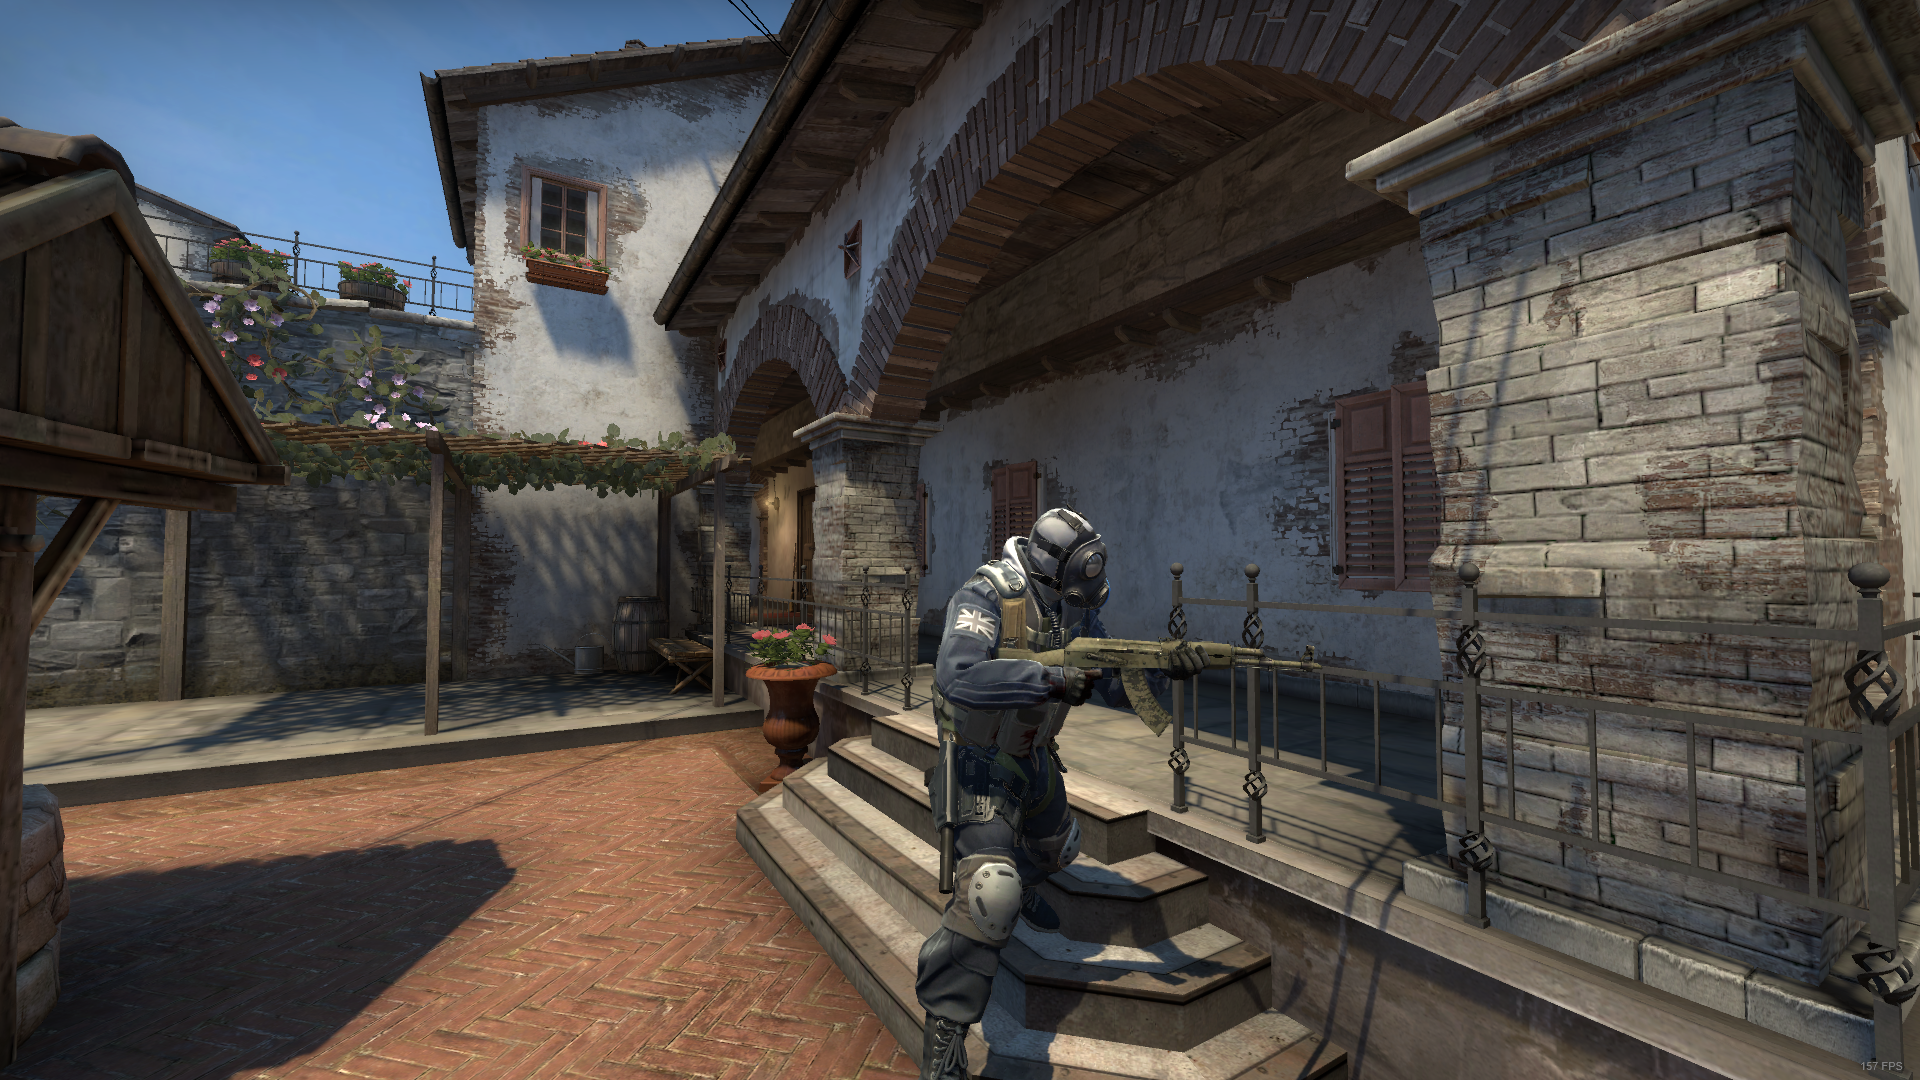ct: (902, 505, 1207, 1073)
